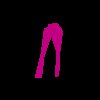pantaloni: (35, 22, 62, 78)
